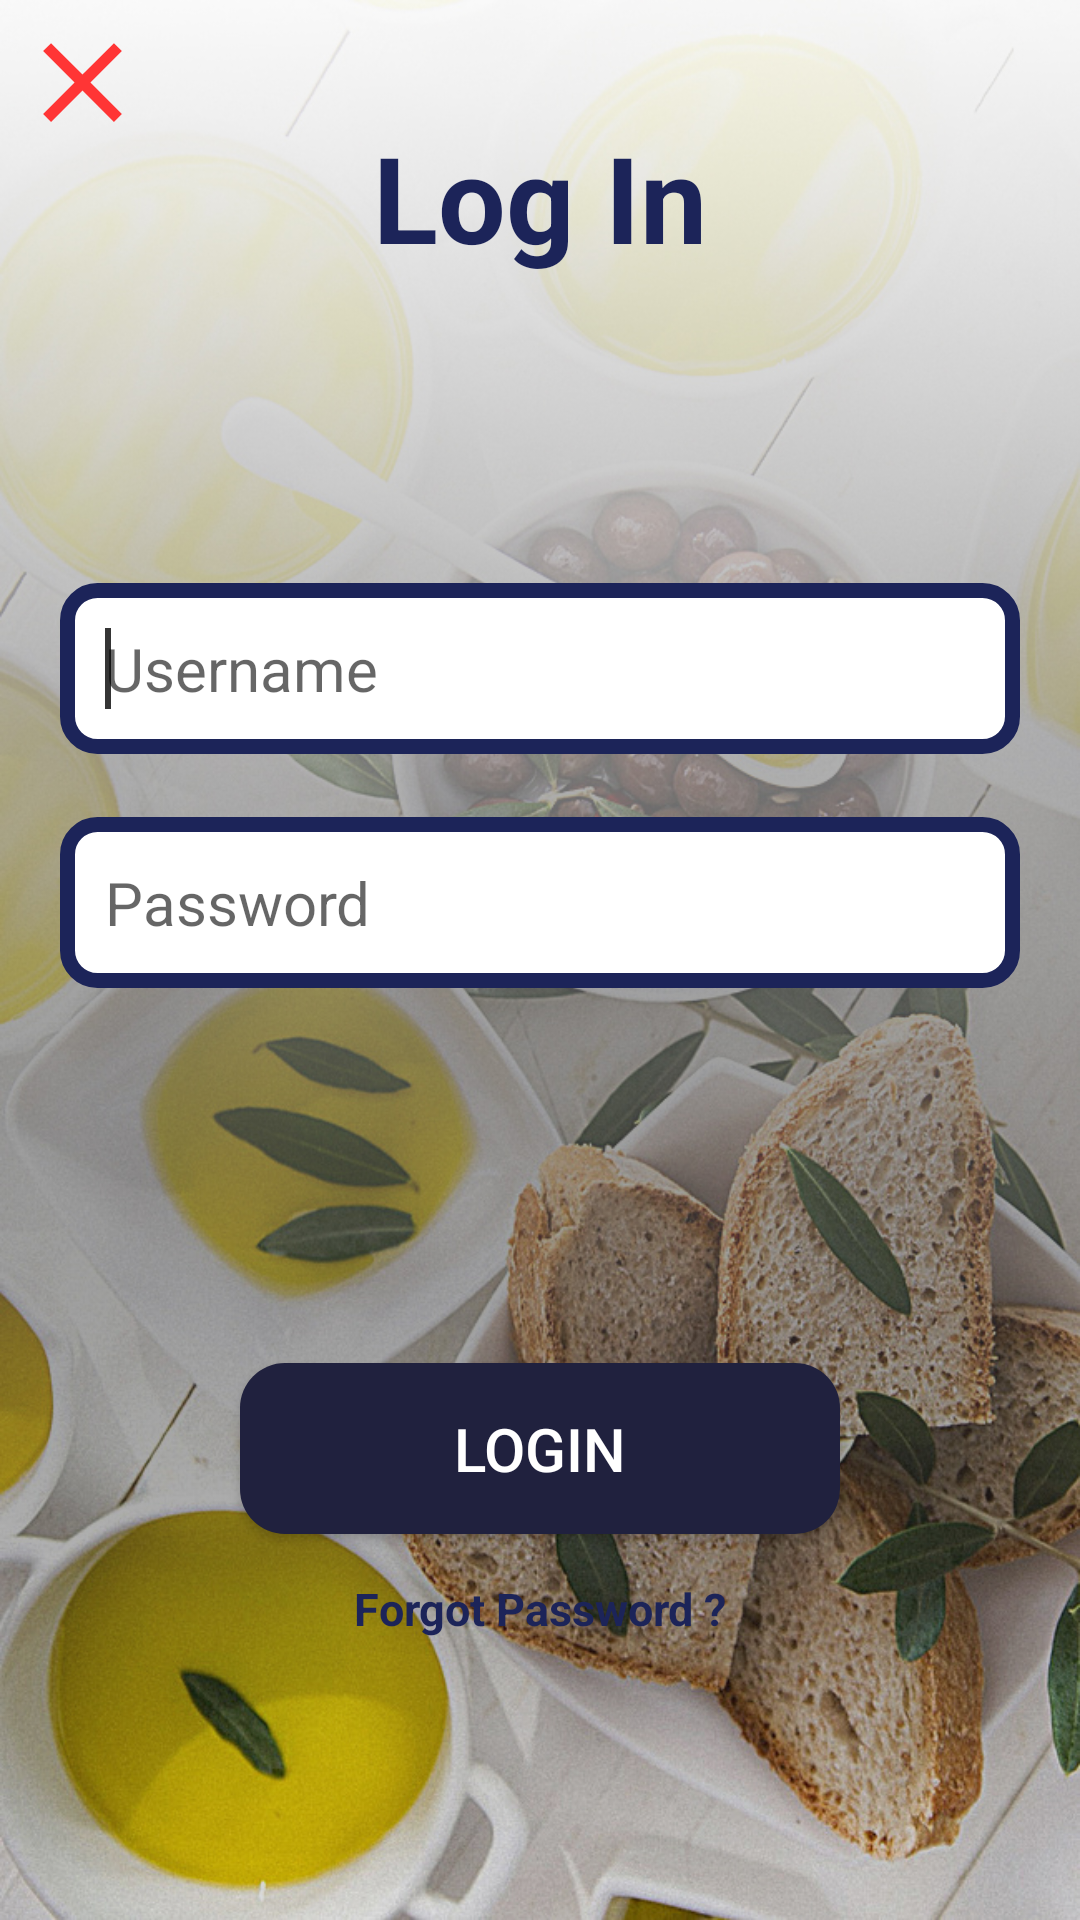

Where icons sit on this 1080*1920 app screen, as bbox=[x1, y1, x2, y2]:
close: bbox=[43, 43, 122, 122]
